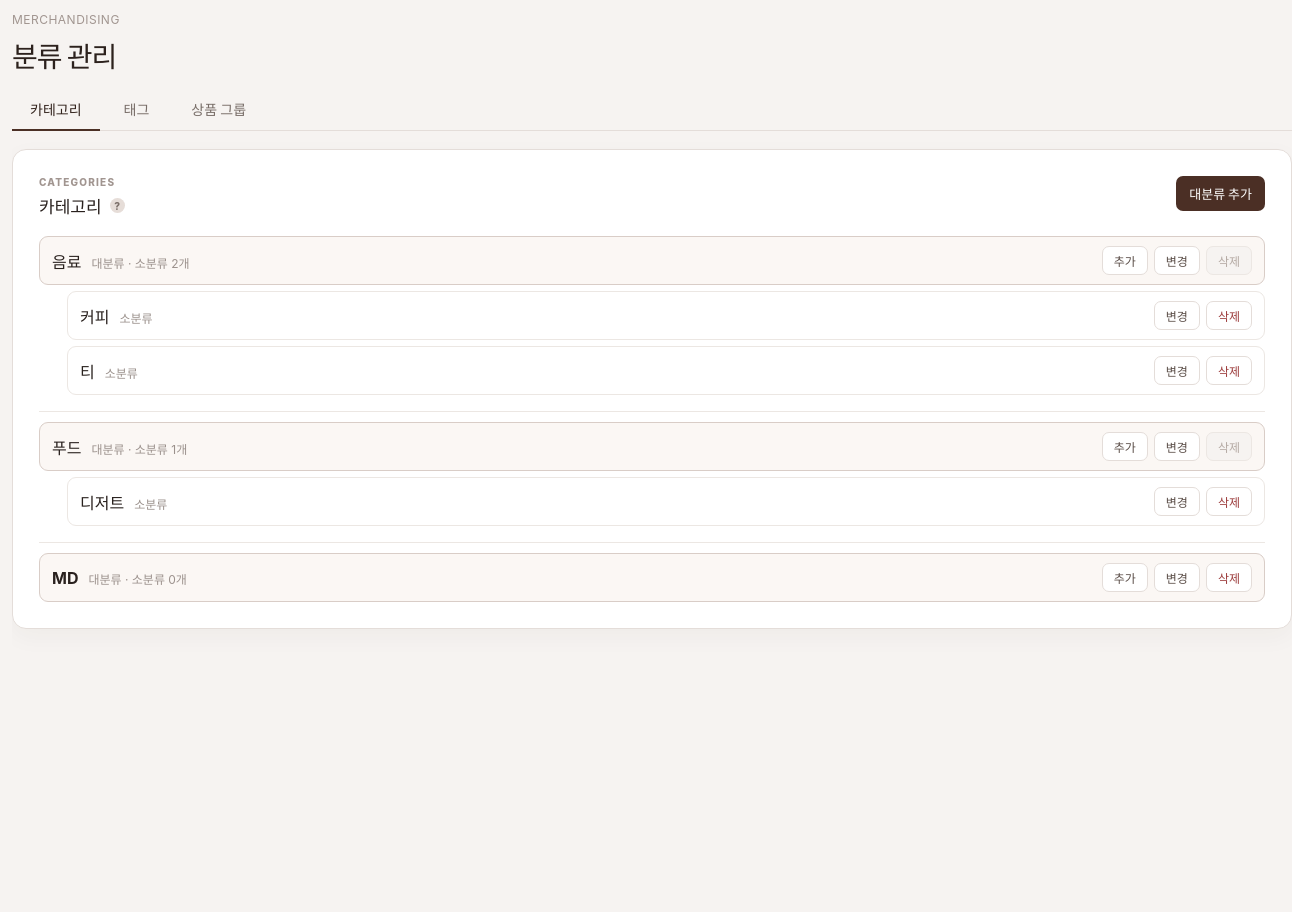
it: 탭 › 처음에는 카테고리를 보여주고 탭으로 태그·상품 그룹을 오간다
This screenshot has width=1292, height=912.
Check: the tab "카테고리" is shown, box [12,89,100,131]
Check: the element "카테고리" is shown, box [12,149,1291,629]
Click the tab "태그" at (136, 110), box [106,89,167,131]
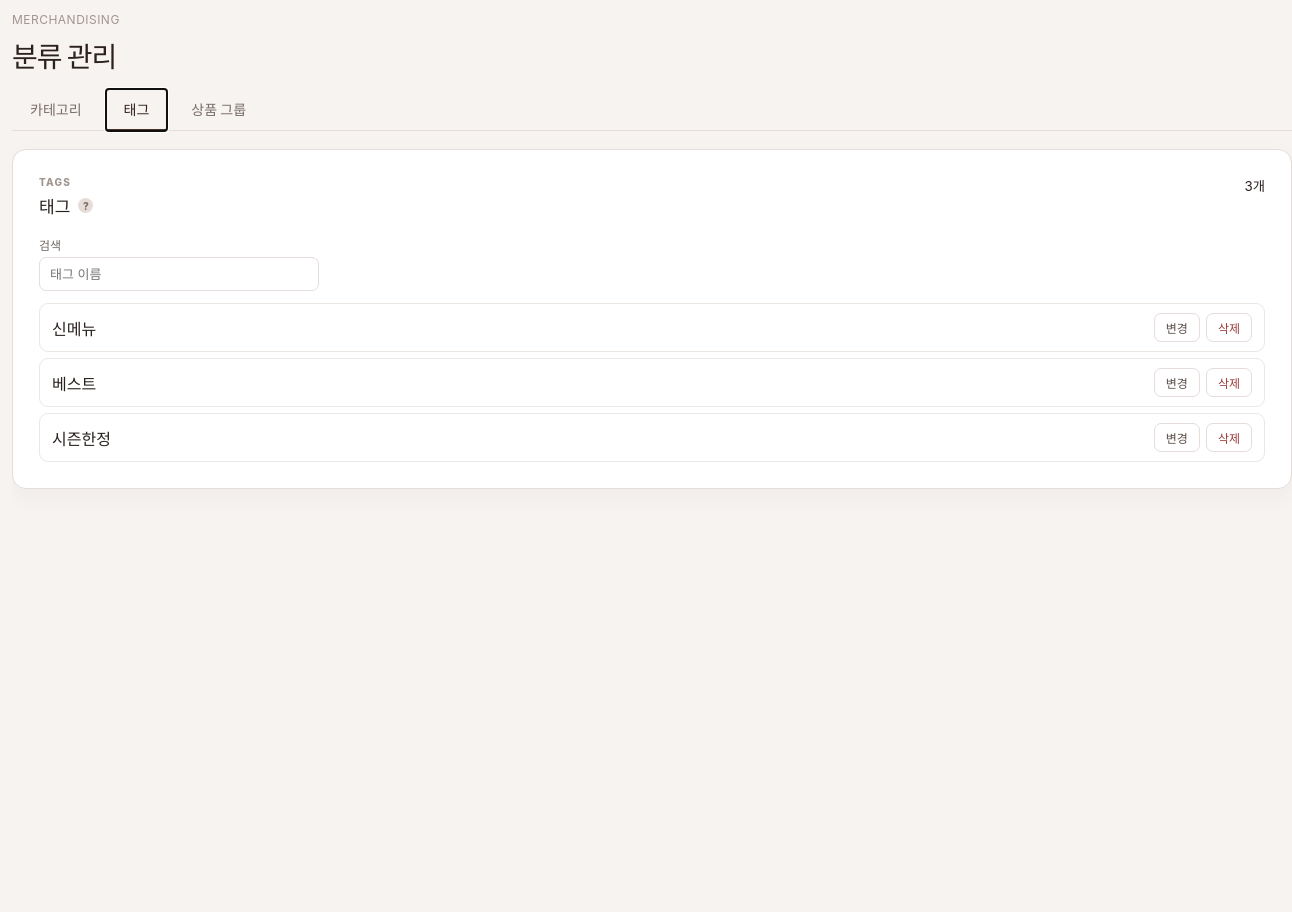
Check: the element "태그" is shown, box [12,149,1291,489]
Click the tab "상품 그룹" at (219, 110), box [173,89,264,131]
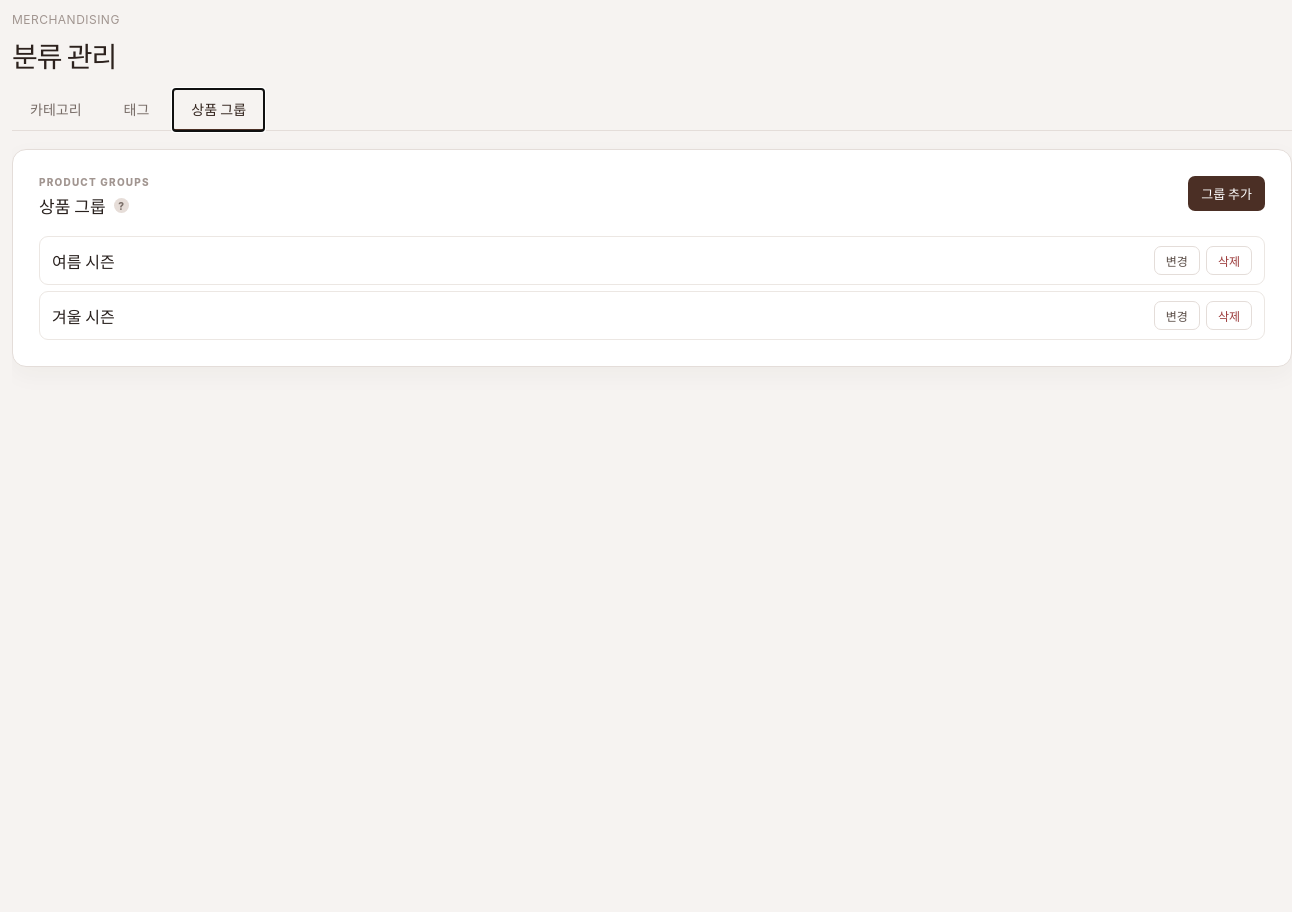
Check: the element "상품 그룹" is shown, box [12,149,1291,367]
